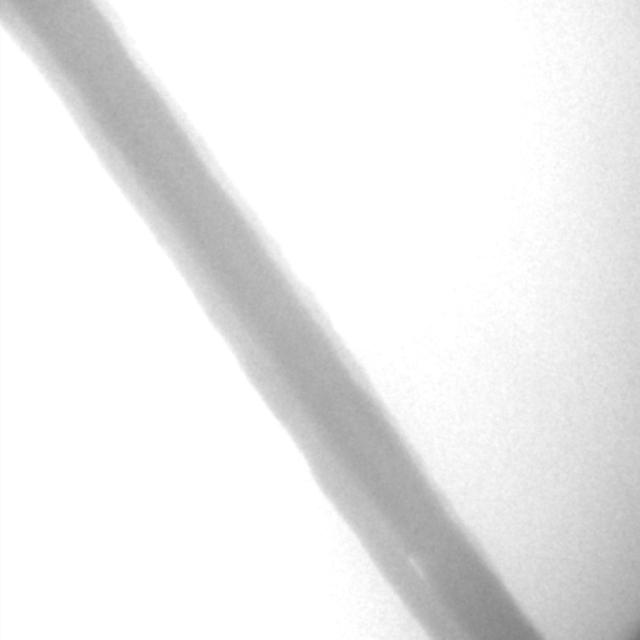air hole: (410, 558, 426, 577)
